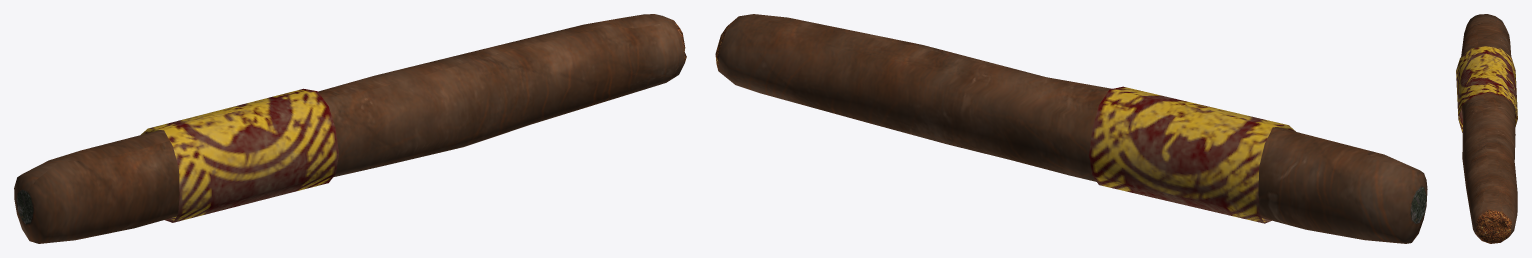
Rendered from Cigar.fbx.
3 renders of one model, left to right at view 1: azimuth 30°, elevation 25°; view 2: azimuth 150°, elevation 25°; view 3: azimuth 270°, elevation 25°, orthographic. The views are drawn at different scales.
Parts seen in each view (by area): view 1: Cylinder; view 2: Cylinder; view 3: Cylinder.
Boxes of the visible parts, box(x1,y1,x2,y2) form: Cylinder: box(14, 14, 686, 243); Cylinder: box(715, 14, 1427, 243); Cylinder: box(1456, 14, 1517, 243).
Bounding box in the file's own units: 0.1381 × 0.0177 × 0.0182.
